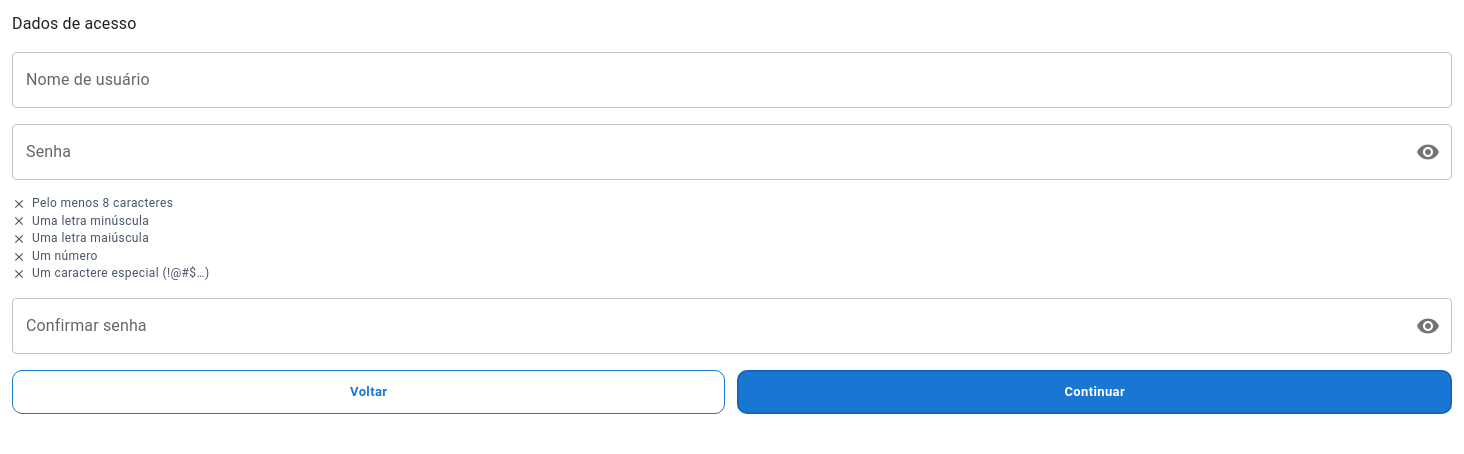
Test case: AccessCredentialsStep component › shows a green available mark after the backend accepts the username
This screenshot has width=1464, height=454.
Type "allanna_c" into the field labelled "Nome de usuário" at (732, 80), box 12,52 -> 1452,108
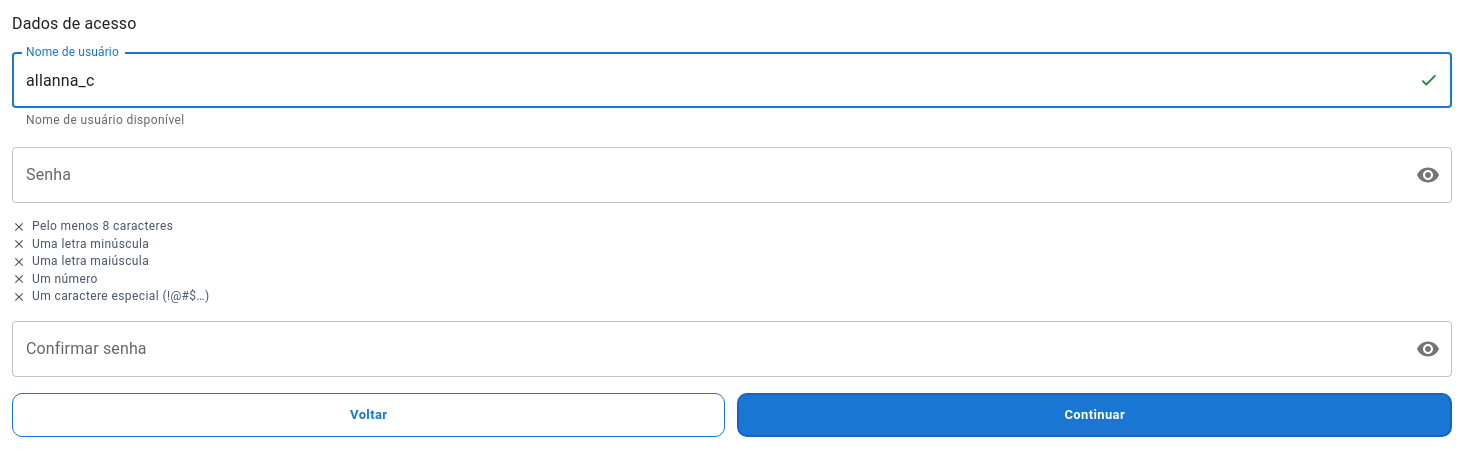
Check: the text "Nome de usuário disponível" is shown, box 26,113 -> 185,127
Check: the icon with test id "CheckIcon" is shown, box 1419,70 -> 1438,90
